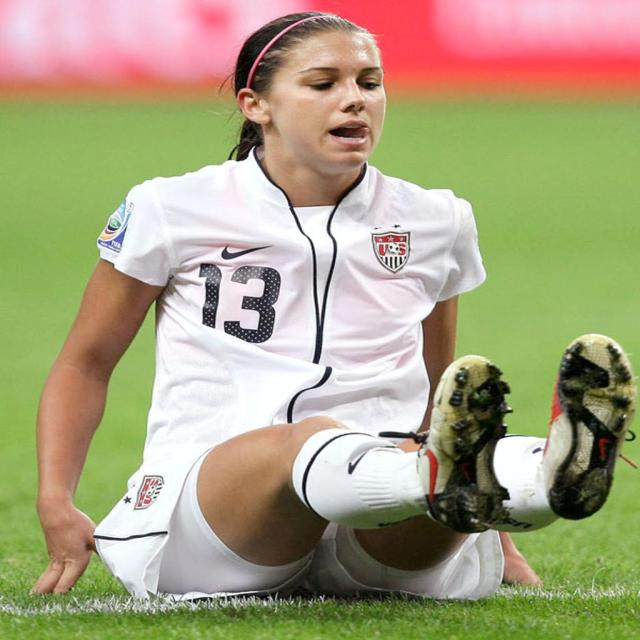Face: (241, 19, 397, 170)
